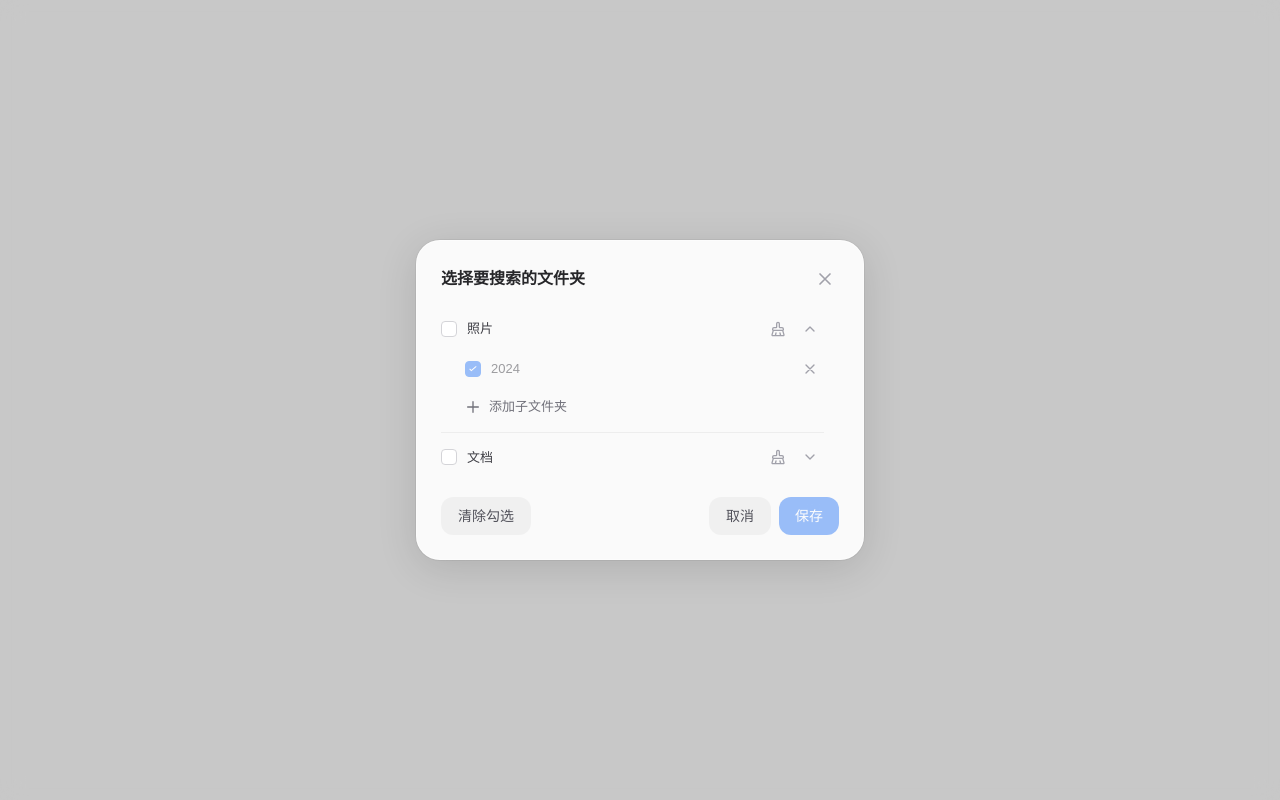
Test case: FolderFilterDialog › 选到根目录以外时提示，可重新选择
This screenshot has width=1280, height=800.
Click the button "添加子文件夹" at (516, 407), box [459, 389, 573, 424]
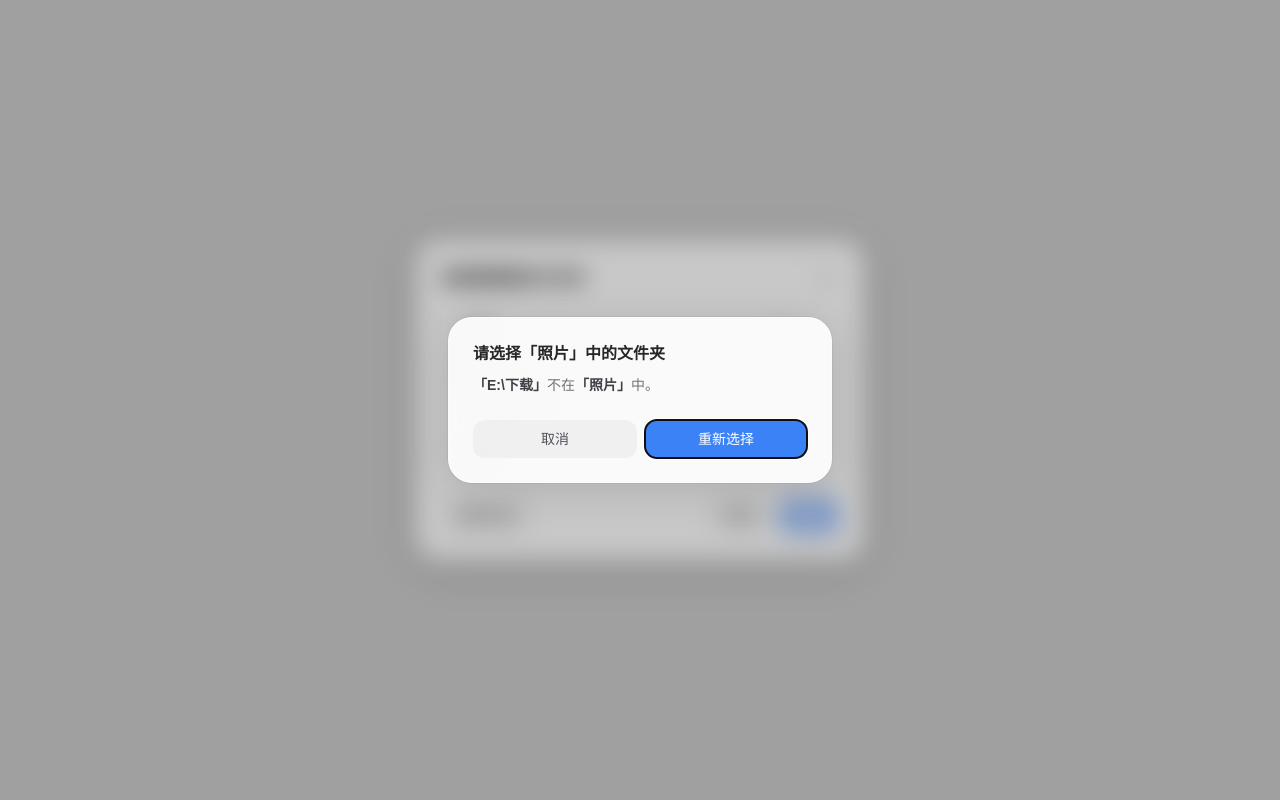
Check: the text "请选择「照片」中的文件夹" is shown, box [473, 345, 665, 362]
Check: the text "「E:\\下载」不在「照片」中。" is shown, box [473, 377, 659, 393]
Click the button "重新选择" at (726, 439), box [645, 420, 807, 458]
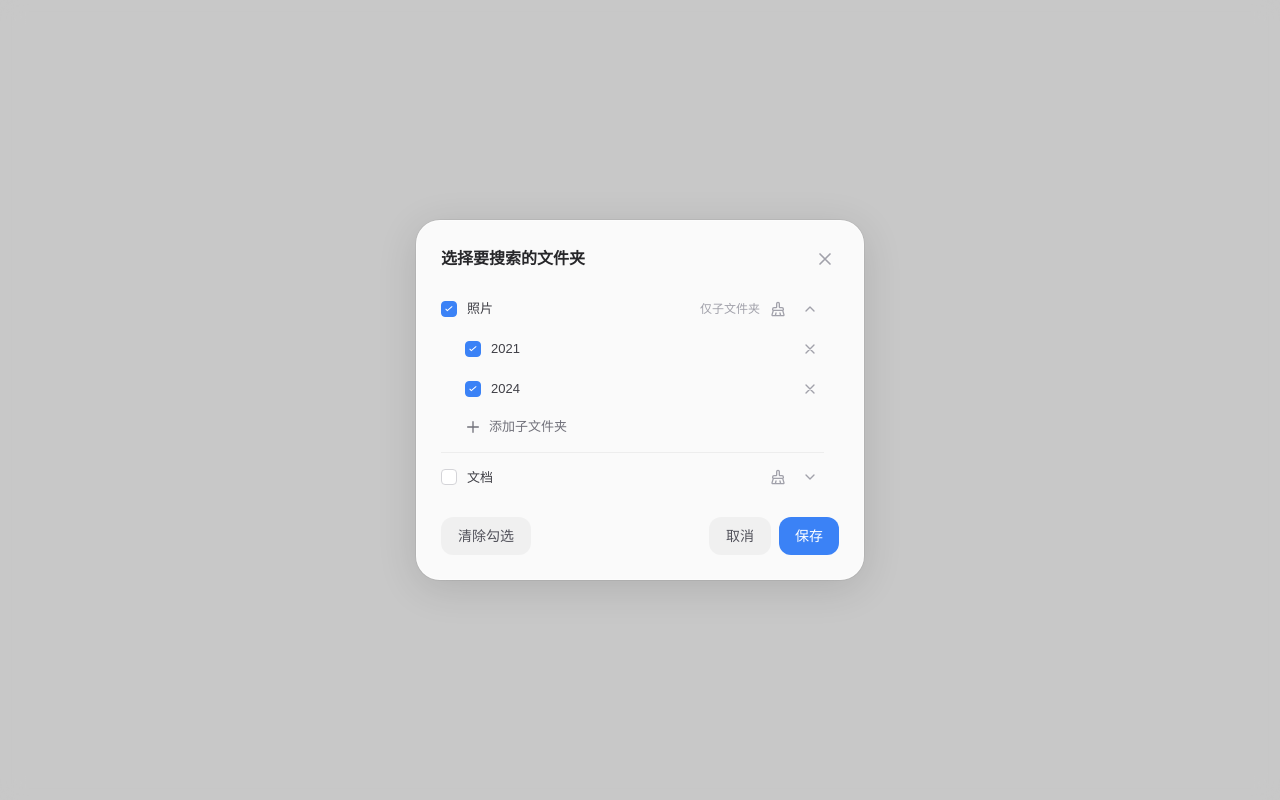
Check: the text "请选择「照片」中的文件夹" is gone
